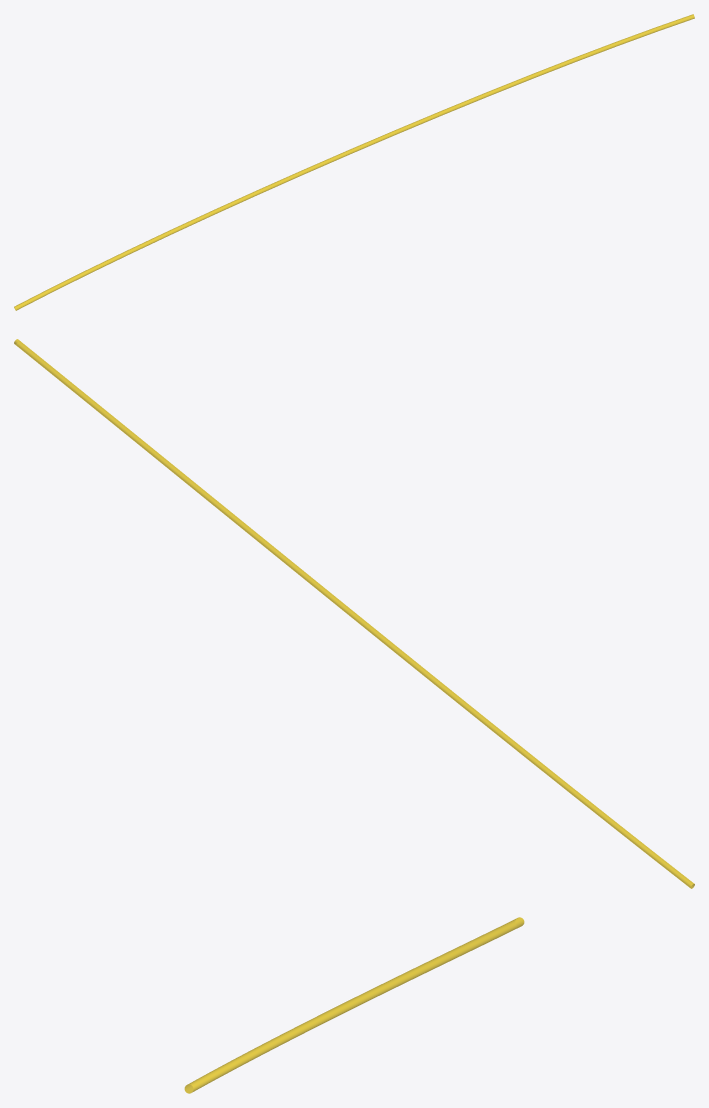
Rendered from Event_15818458_track_3.fbx.
The picture shows the model from 3 angles, top to bottom: view 1: azimuth 30°, elevation 25°; view 2: azimuth 150°, elevation 25°; view 3: azimuth 270°, elevation 25°; orthographic projection. The views are drawn at different scales.
Parts seen in each view (by area): view 1: Model; view 2: Model; view 3: Model.
Part boxes in pixels (x1,y1,x2,y2): Model: (14,14,694,310); Model: (14,339,694,888); Model: (184,917,524,1093).
Size of the model in its own units: 5.94 by 2.01 by 1.46.
